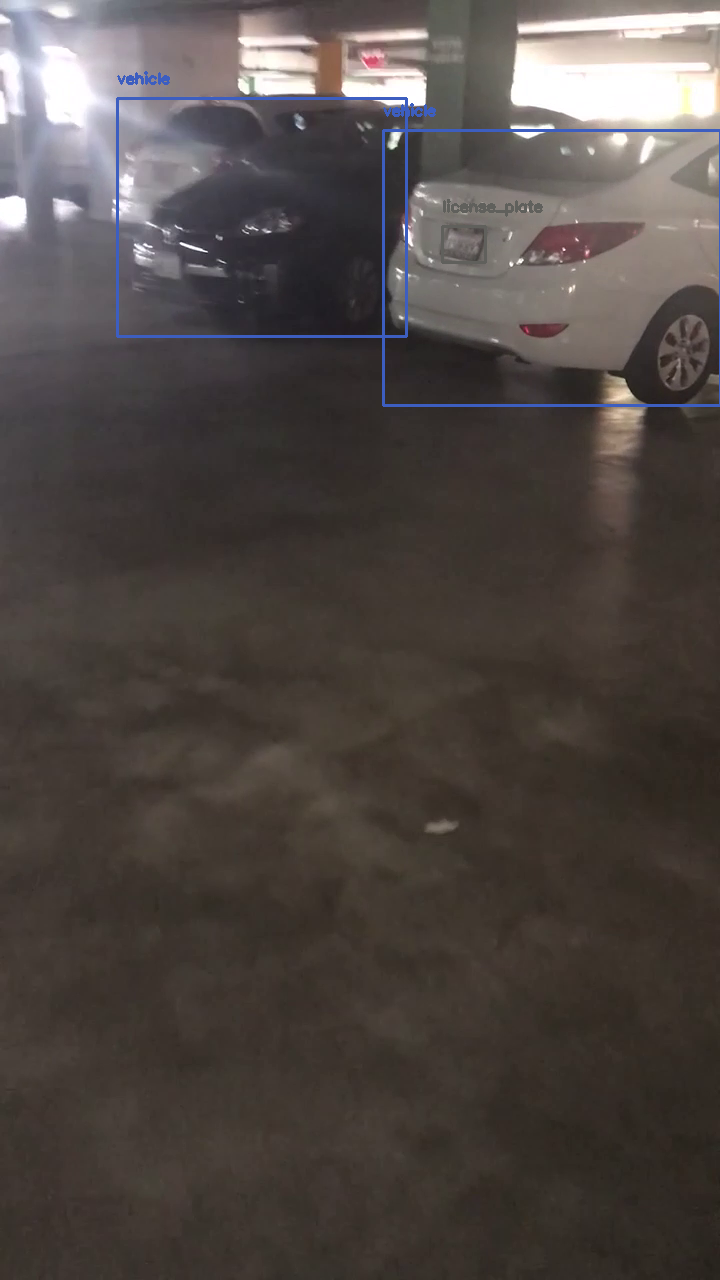license_plate: (442, 226, 485, 262)
vehicle: (383, 130, 720, 405), (117, 98, 406, 336)
